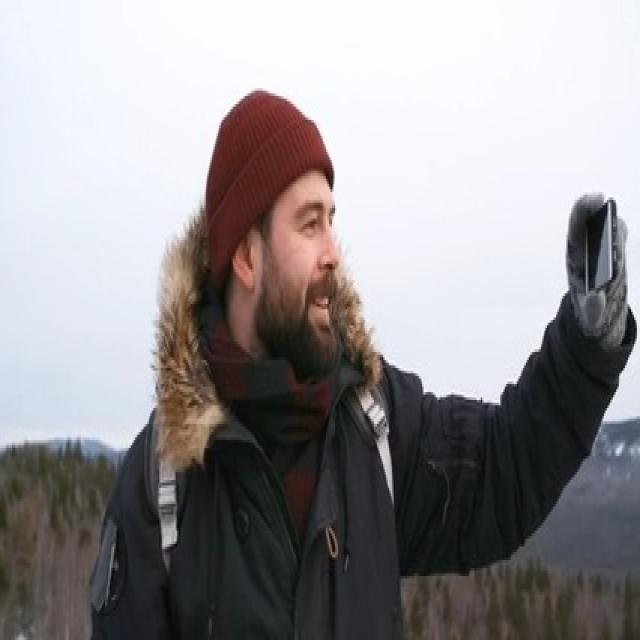Jacket_Wearer: (120, 285, 640, 640)
Person: (119, 93, 640, 640)
